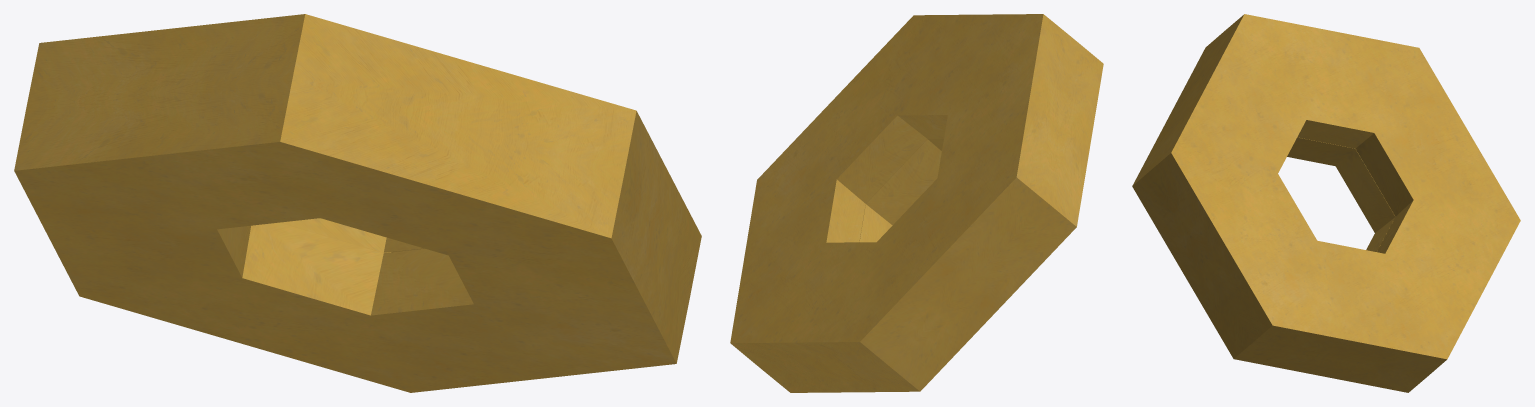
File: Coin.fbx
The picture shows the model from 3 angles, left to right: view 1: azimuth 30°, elevation 25°; view 2: azimuth 150°, elevation 25°; view 3: azimuth 270°, elevation 25°; orthographic projection. The views are drawn at different scales.
Visible parts, largest first — view 1: Torus.001; view 2: Torus.001; view 3: Torus.001.
Part boxes in pixels (<box>): Torus.001: <box>14,14,701,392</box>; Torus.001: <box>730,14,1103,392</box>; Torus.001: <box>1132,14,1520,392</box>.
Bounding box in the file's own units: 174 × 153 × 174.
Materials: 1 (1 with a texture image).
